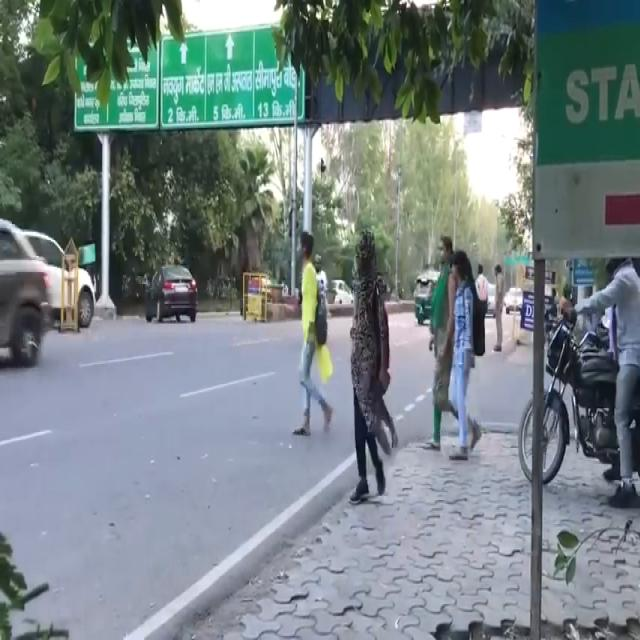MOTORCYCLE: (522, 305, 638, 560)
SUV: (0, 218, 53, 374), (150, 262, 202, 327)
